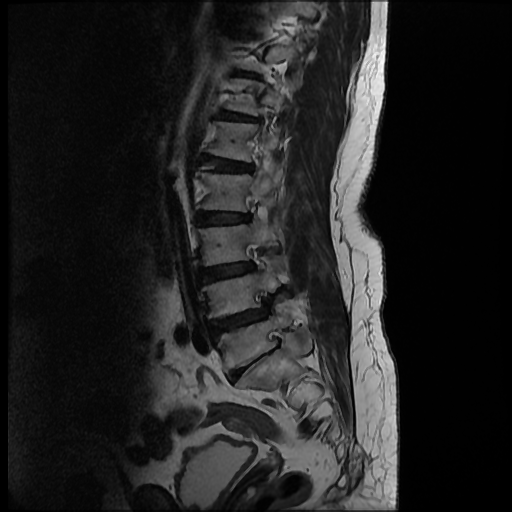RFS0: (239, 232, 269, 279)
RFS3: (243, 284, 280, 331)
